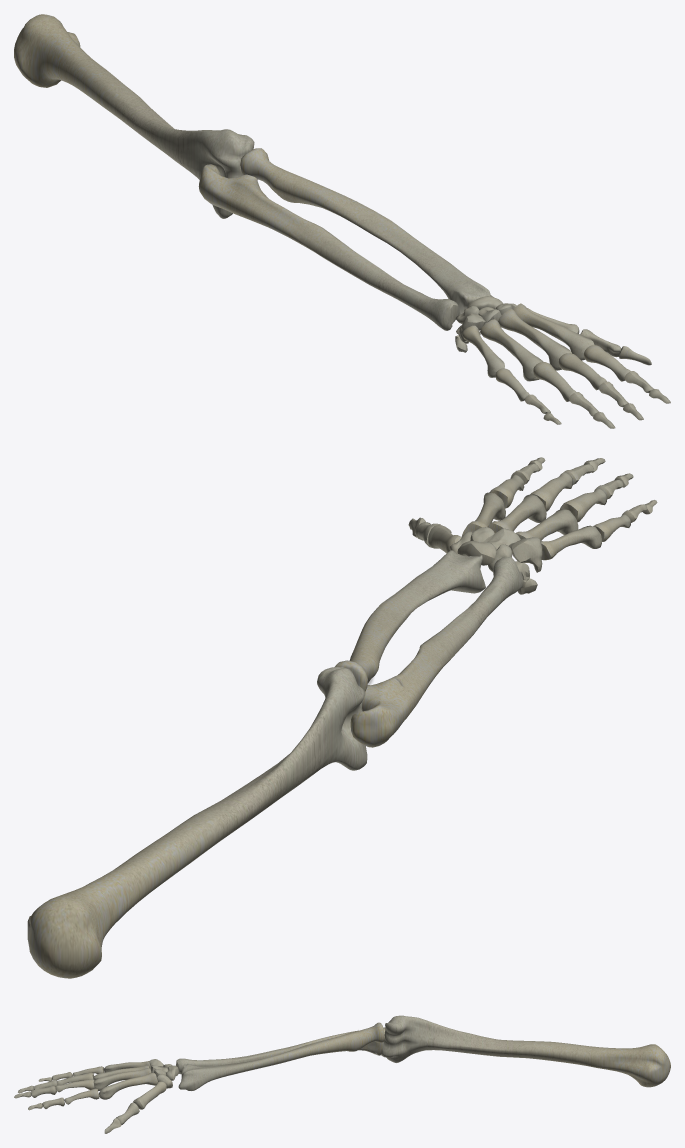
The model's file is right.arm.bones.glb.
3 views of the same model, one above another, from view 1: azimuth 30°, elevation 25°; view 2: azimuth 150°, elevation 25°; view 3: azimuth 270°, elevation 25° (orthographic). The views are drawn at different scales.
Parts seen in each view (by area): view 1: humorus, ulna, radius, mcarple2, mcarple3, mcarpal4, mcarpal5, phalx3p, phalanx2, phalx4p; view 2: humorus, ulna, radius, mcarple3, mcarpal5, mcarpal4, mcarple2, hamate; view 3: humorus, radius, ulna, mcarple2, mcarple3, metacpl1, phalx3p, mcarpal5, phalanx2, mcarpal4, phalng1p, phalx4p.
Part boxes in pixels (x1=…): humorus: x1=14, y1=14, x2=254, y2=218; ulna: x1=198, y1=164, x2=459, y2=330; radius: x1=240, y1=148, x2=493, y2=314; mcarple2: x1=513, y1=303, x2=594, y2=360; mcarple3: x1=498, y1=309, x2=571, y2=370; mcarpal4: x1=480, y1=319, x2=543, y2=381; mcarpal5: x1=461, y1=325, x2=504, y2=377; phalx3p: x1=558, y1=353, x2=606, y2=390; phalanx2: x1=584, y1=345, x2=630, y2=381; phalx4p: x1=533, y1=362, x2=575, y2=401; humorus: x1=27, y1=667, x2=367, y2=978; ulna: x1=350, y1=556, x2=523, y2=747; radius: x1=335, y1=550, x2=485, y2=691; mcarple3: x1=487, y1=494, x2=546, y2=533; mcarpal5: x1=541, y1=525, x2=601, y2=560; mcarpal4: x1=512, y1=509, x2=578, y2=554; mcarple2: x1=461, y1=492, x2=505, y2=536; hamate: x1=512, y1=537, x2=542, y2=572; humorus: x1=381, y1=1015, x2=670, y2=1087; radius: x1=178, y1=1022, x2=384, y2=1090; ulna: x1=176, y1=1027, x2=385, y2=1074; mcarple2: x1=98, y1=1073, x2=157, y2=1099; mcarple3: x1=93, y1=1068, x2=151, y2=1090; metacpl1: x1=133, y1=1081, x2=166, y2=1109; phalx3p: x1=55, y1=1079, x2=94, y2=1092; mcarpal5: x1=103, y1=1061, x2=150, y2=1072; phalanx2: x1=64, y1=1088, x2=99, y2=1104; mcarpal4: x1=93, y1=1065, x2=149, y2=1079; phalng1p: x1=116, y1=1102, x2=139, y2=1124; phalx4p: x1=57, y1=1072, x2=93, y2=1085.
Size of the model in its own units: 3.4 by 1.67 by 13.87.
3 materials, 3 textured.
